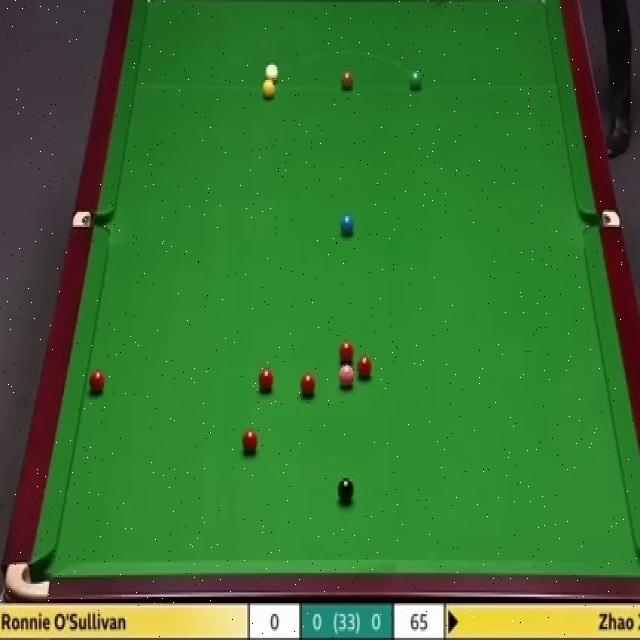black-ball: (338, 476, 355, 505)
blue-ball: (339, 212, 355, 237)
brown-ball: (340, 70, 354, 91)
green-ball: (409, 68, 422, 94)
pink-ball: (340, 363, 356, 388)
red-ball: (258, 366, 276, 395), (240, 428, 260, 454), (357, 355, 375, 383), (300, 372, 317, 401), (89, 368, 105, 396), (340, 338, 354, 365)
white-ball: (264, 61, 280, 85)
yellow-ball: (262, 80, 274, 102)
